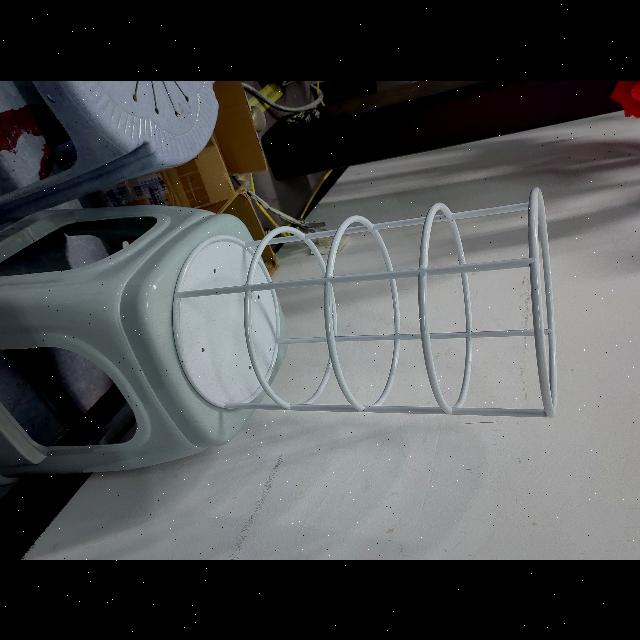S: (167, 186, 565, 422)
